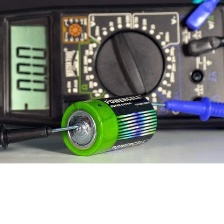battery: (58, 90, 160, 159)
